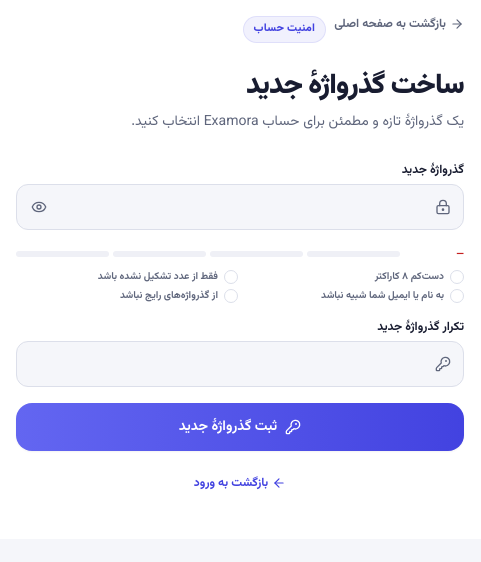
Test: with a usable link › passes the server's own reason through when the link has expired
In the password field labelled "گذرواژهٔ جدید": (244, 207) top-left (61, 185), bottom-right (427, 229), type "کوهستان-2468-Ab!"
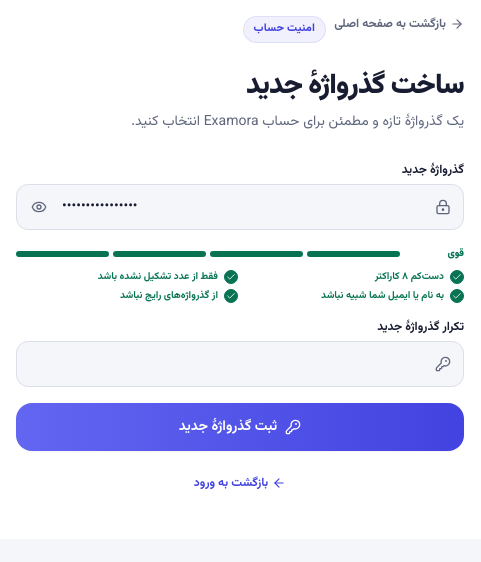
In the password field labelled "تکرار گذرواژهٔ جدید": (228, 364) top-left (29, 342), bottom-right (427, 386), type "کوهستان-2468-Ab!"
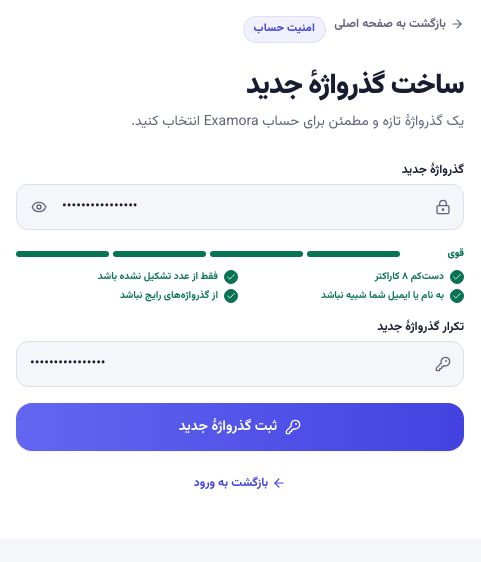
Click the button "ثبت گذرواژهٔ جدید": click(240, 427) top-left (16, 403), bottom-right (464, 451)
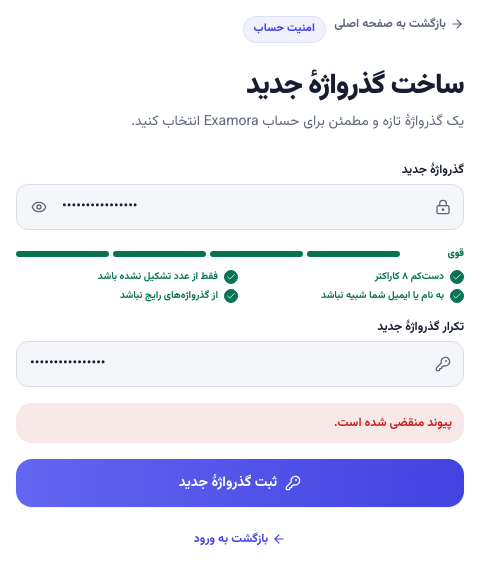
expect the message reads "پیوند منقضی شده است.": met, box top-left (334, 414), bottom-right (452, 432)
